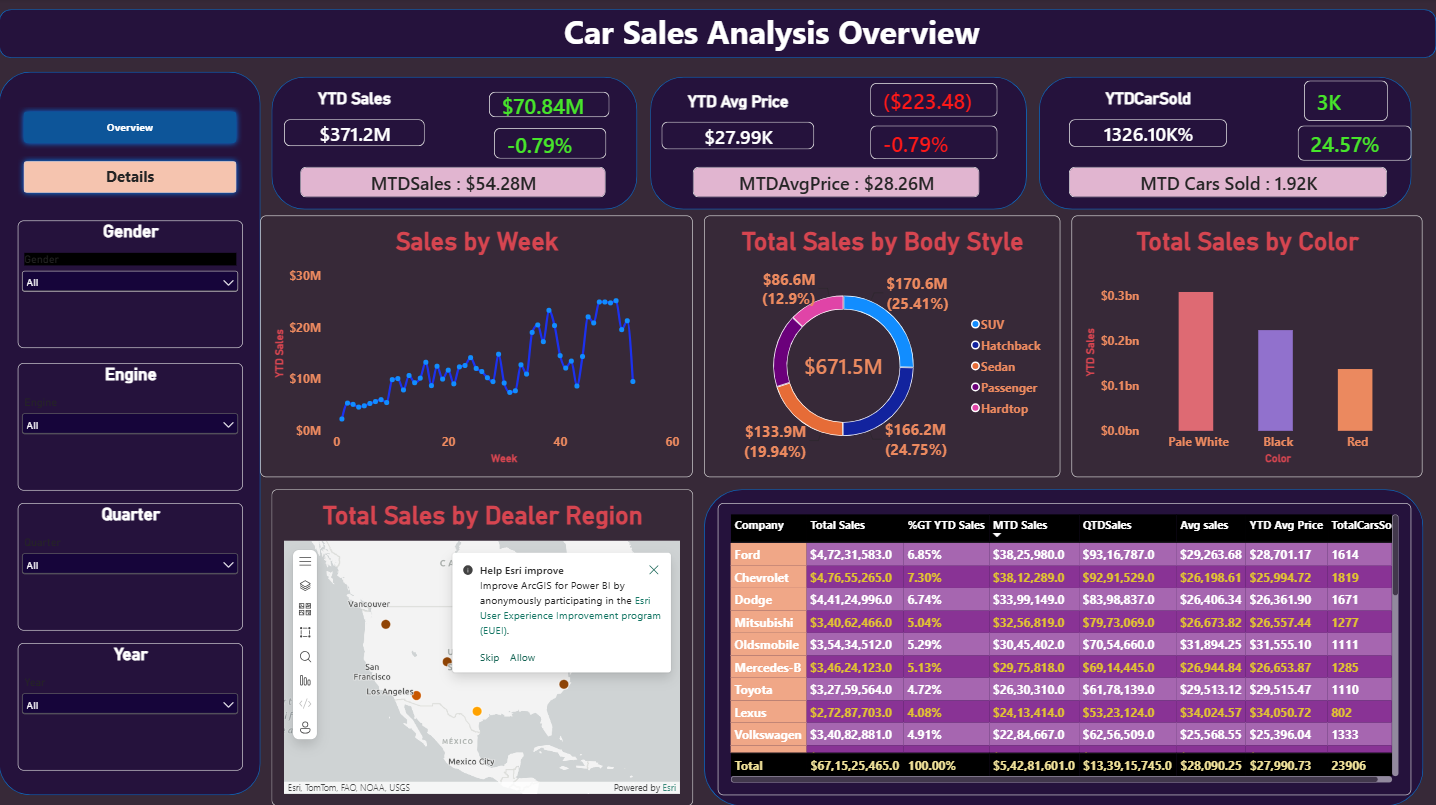

The page's visual inventory and layout, read from the dashboard file:
{"tool":"powerbi","page":{"name":"Overview","canvas":[1920,1080],"ordinal":0},"visuals":[{"type":"shape","box":[0,14.5,1920.1,65.1],"z":0},{"type":"shape","box":[363.7,105,488.6,177.3],"z":1000},{"type":"shape","box":[1389.8,105,497.7,177.3],"z":2000},{"type":"shape","box":[869.5,105,503.1,177.3],"z":3000},{"type":"shape","box":[0,97.7,349.3,966.4],"z":4000},{"type":"cardVisual","title":"YTD Sales","fields":{"Data":["car_data.YTD Sales"]},"box":[380,121.2,188.2,76],"z":5000},{"type":"cardVisual","title":"YTD Avg Price","fields":{"Data":["car_data.YTD Avg Price"]},"box":[884.9,124.9,204.5,77.8],"z":6000},{"type":"lineChart","title":" Sales by Week","fields":{"Category":["DateTable.Week"],"Y":["car_data.Total Sales"]},"box":[349.3,291.4,577.3,349.3],"z":7000},{"type":"columnChart","fields":{"Category":["car_data.Color"],"Y":["car_data.Total Sales"]},"box":[1433.3,291.4,468.7,349.3],"z":8000},{"type":"donutChart","fields":{"Category":["car_data.Body Style"],"Y":["car_data.Total Sales"]},"box":[941,291.4,475.9,349.3],"z":9000},{"type":"cardVisual","fields":{"Data":["car_data.MTDKPI"]},"box":[401.7,226.2,409,41.6],"z":10000},{"type":"cardVisual","fields":{"Data":["car_data.SalesDiff"]},"box":[655.1,124.9,161.1,34.4],"z":11000},{"type":"cardVisual","fields":{"Data":["car_data.YOY%"]},"box":[660.5,173.7,150.2,41.6],"z":12000},{"type":"cardVisual","fields":{"Data":["car_data.MTDAvgKPI"]},"box":[926.5,226.2,383.6,41.6],"z":13000},{"type":"cardVisual","fields":{"Data":["car_data.avgsalesdiff"]},"box":[1163.6,114,170.1,45.2],"z":14000},{"type":"cardVisual","fields":{"Data":["car_data.YOYAvg%"]},"box":[1163.6,170.1,170.1,45.2],"z":15000},{"type":"cardVisual","title":"YTDCarSold","fields":{"Data":["car_data.YTD Cars Sold"]},"box":[1429.6,121.2,211.7,77.8],"z":16000},{"type":"cardVisual","fields":{"Data":["car_data.MTDCarsoldKPI"]},"box":[1429.6,226.2,425.3,41.6],"z":17000},{"type":"cardVisual","fields":{"Data":["car_data.CarsSoldDiff"]},"box":[1742.7,110.4,112.2,54.3],"z":18000},{"type":"cardVisual","fields":{"Data":["car_data.YOYCarsSold%"]},"box":[1735.5,170.1,152,47.1],"z":19000},{"type":"textbox","box":[754.6,14.5,615.3,83.2],"z":20000},{"type":"esriVisual","title":"Total Sales by Dealer Region","fields":{"Color":["car_data.Total Sales"],"Location":["car_data.Dealer_Region"]},"box":[363.7,656.9,562.8,423.5],"z":21000},{"type":"shape","box":[941,656.9,960.9,423.5],"z":22000},{"type":"tableEx","fields":{"Values":["car_data.Company","car_data.Total Sales","car_data.YTD Sales","car_data.MTD Sales","car_data.QTDSales","car_data.Avg sales","car_data.YTD Avg Price","car_data.TotalCarsSold"]},"box":[960.1,674.6,926.7,390.7],"z":23000},{"type":"slicer","title":"Gender","fields":{"Values":["car_data.Gender"]},"box":[25.3,296.8,300.4,170.1],"z":23001},{"type":"slicer","title":"Engine","fields":{"Values":["car_data.Engine"]},"box":[25.3,486.8,300.4,170.1],"z":23002},{"type":"slicer","title":"Quarter","fields":{"Values":["DateTable.Quarter"]},"box":[25.3,675,300.4,170.1],"z":23003},{"type":"slicer","title":"Year","fields":{"Values":["DateTable.Year"]},"box":[25.3,861.4,300.4,170.1],"z":23004},{"type":"pageNavigator","box":[25.3,143,300.4,124.9],"z":23005}]}

Visuals, with their boxes in screenshot pixels (x1, y1, x2, y2), scaled from the page's 1920x1080 canvas onto the 1436x805 screenshot:
shape: [0, 11, 1435, 59]
shape: [272, 78, 637, 210]
shape: [1039, 78, 1412, 210]
shape: [650, 78, 1027, 210]
shape: [0, 73, 261, 793]
"YTD Sales" cardVisual: [284, 90, 425, 147]
"YTD Avg Price" cardVisual: [662, 93, 815, 151]
" Sales by Week" lineChart: [261, 217, 693, 478]
columnChart - car_data.Color x car_data.Total Sales: [1072, 217, 1423, 478]
donutChart - car_data.Body Style x car_data.Total Sales: [704, 217, 1060, 478]
cardVisual - car_data.MTDKPI: [300, 169, 606, 200]
cardVisual - car_data.SalesDiff: [490, 93, 610, 119]
cardVisual - car_data.YOY%: [494, 129, 606, 160]
cardVisual - car_data.MTDAvgKPI: [693, 169, 980, 200]
cardVisual - car_data.avgsalesdiff: [870, 85, 997, 119]
cardVisual - car_data.YOYAvg%: [870, 127, 997, 160]
"YTDCarSold" cardVisual: [1069, 90, 1228, 148]
cardVisual - car_data.MTDCarsoldKPI: [1069, 169, 1387, 200]
cardVisual - car_data.CarsSoldDiff: [1303, 82, 1387, 123]
cardVisual - car_data.YOYCarsSold%: [1298, 127, 1412, 162]
textbox: [564, 11, 1025, 73]
"Total Sales by Dealer Region" esriVisual: [272, 490, 693, 804]
shape: [704, 490, 1422, 804]
tableEx - car_data.Company x car_data.Total Sales: [718, 503, 1411, 794]
"Gender" slicer: [19, 221, 244, 348]
"Engine" slicer: [19, 363, 244, 490]
"Quarter" slicer: [19, 503, 244, 630]
"Year" slicer: [19, 642, 244, 769]
pageNavigator: [19, 107, 244, 200]
